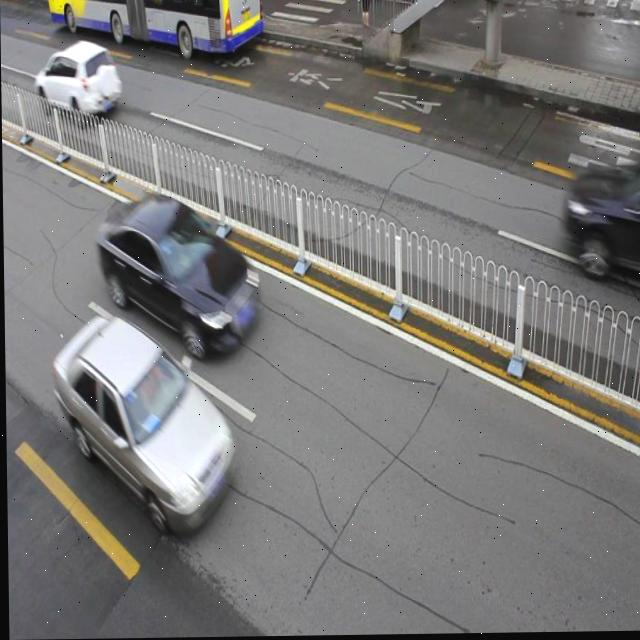car: (54, 314, 232, 530), (97, 193, 261, 359), (563, 158, 640, 288), (34, 40, 121, 124)
van: (51, 0, 266, 66)
